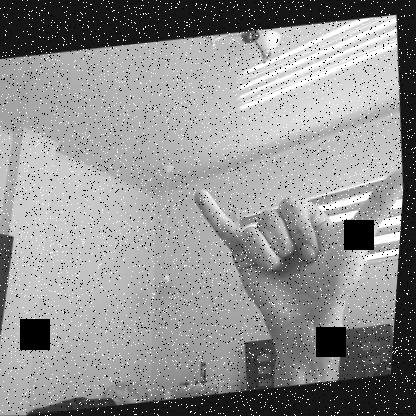Y: (186, 163, 406, 344)
